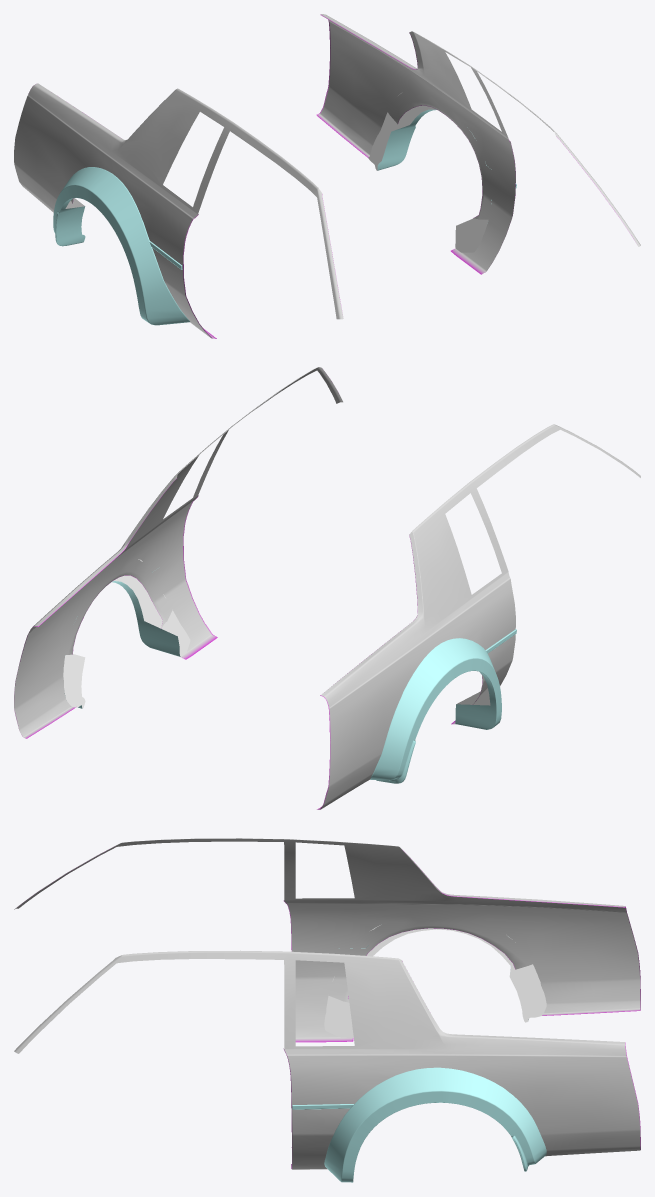
The model's file is Car_Buick_GrandNational_1987_FendersR_SetD.fbx.
3 views of the same model, one above another, from view 1: azimuth 30°, elevation 25°; view 2: azimuth 150°, elevation 25°; view 3: azimuth 270°, elevation 25° (orthographic). The views are drawn at different scales.
Parts seen in each view (by area): view 1: FendersR 6; view 2: FendersR 6; view 3: FendersR 6.
Boxes of the visible parts, bbox=[...] form: FendersR 6: bbox=[14, 14, 640, 338]; FendersR 6: bbox=[14, 367, 640, 809]; FendersR 6: bbox=[14, 838, 640, 1182].
Size of the model in its own units: 1.99 by 1.12 by 3.03.
